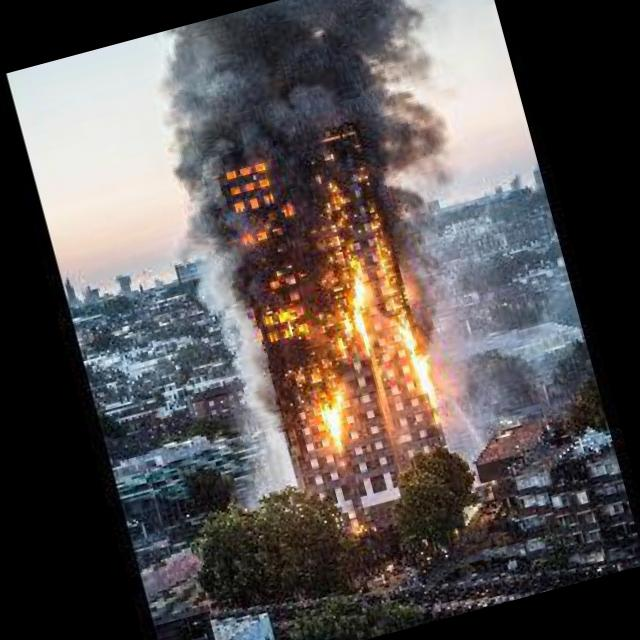fire: (216, 124, 452, 464)
smoke: (143, 166, 305, 523), (358, 106, 514, 441)
